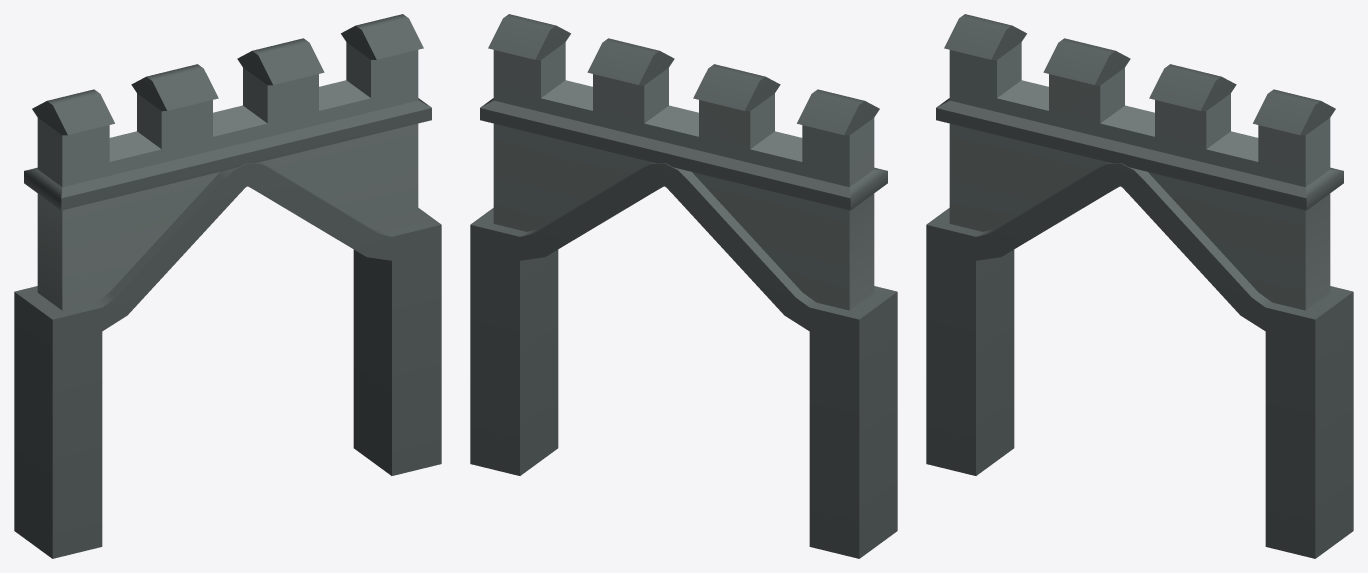
File: gate1.fbx
The picture shows the model from 3 angles, left to right: view 1: azimuth 30°, elevation 25°; view 2: azimuth 150°, elevation 25°; view 3: azimuth 330°, elevation 25°; orthographic projection.
Parts seen in each view (by area): view 1: town3, town2; view 2: town3, town2; view 3: town3, town2.
Part boxes in pixels (bbox=[...]): town3: bbox=[24, 14, 431, 310]; town2: bbox=[14, 162, 441, 558]; town3: bbox=[480, 14, 887, 310]; town2: bbox=[470, 162, 897, 558]; town3: bbox=[936, 14, 1343, 310]; town2: bbox=[926, 162, 1353, 558].
Bounding box in the file's own units: 293 × 315 × 50.
